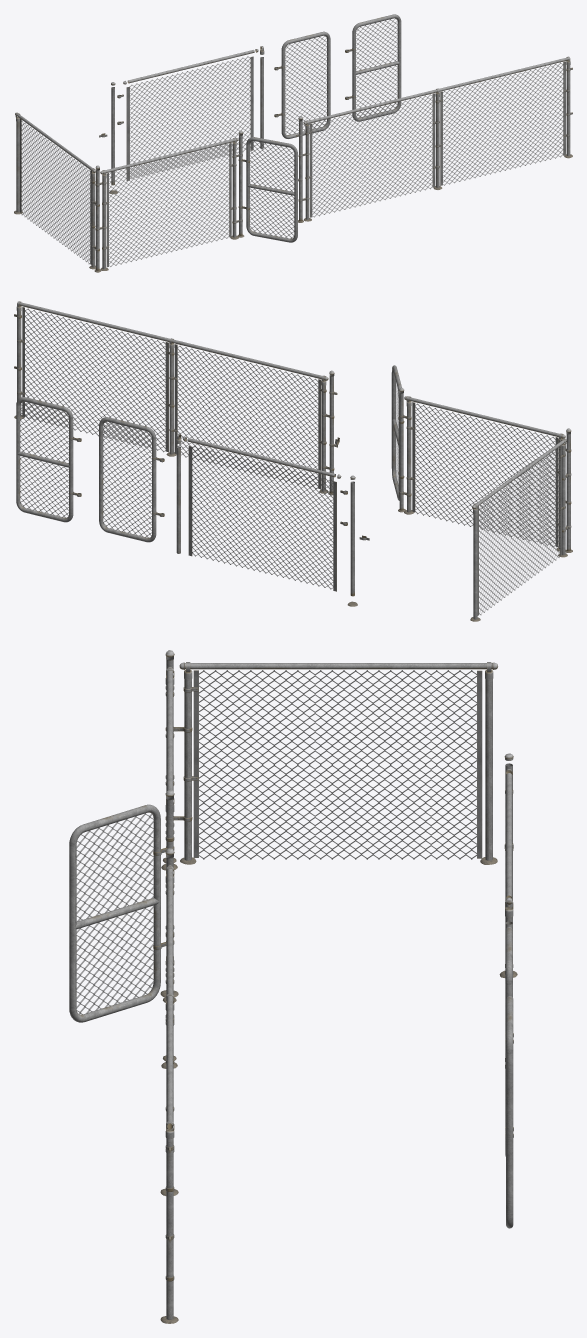
Rendered from modular-chain-link-fence.glb.
3 views of the same model, one above another, from view 1: azimuth 30°, elevation 25°; view 2: azimuth 150°, elevation 25°; view 3: azimuth 270°, elevation 25° (orthographic). The views are drawn at different scales.
Visible parts, largest first — view 1: 702, 716, 856, 211, 1066, 590, 141, 127, 744, 352, 478, 57 (+15 smaller); view 2: 211, 716, 702, 856, 1066, 141, 127, 590, 744, 352, 478, 57 (+15 smaller); view 3: 1066, 590, 954, 141, 968, 492, 1038, 1080, 940, 57.
Boxes of the visible parts, x1,y1,x2,y2 form: 702: [312, 94, 432, 217]; 716: [443, 62, 563, 185]; 856: [109, 144, 229, 266]; 211: [130, 56, 250, 179]; 1066: [20, 120, 90, 264]; 590: [238, 137, 297, 242]; 141: [345, 14, 401, 121]; 127: [274, 31, 330, 138]; 744: [103, 138, 236, 173]; 352: [306, 89, 437, 123]; 478: [439, 57, 568, 91]; 57: [127, 50, 254, 83]; 211: [192, 446, 333, 589]; 716: [24, 308, 166, 452]; 702: [176, 345, 318, 489]; 856: [414, 403, 555, 546]; 1066: [478, 447, 560, 615]; 141: [16, 397, 81, 522]; 127: [99, 417, 164, 542]; 590: [391, 365, 404, 500]; 744: [406, 397, 562, 437]; 352: [171, 339, 324, 379]; 478: [19, 302, 169, 341]; 57: [187, 438, 335, 477]; 1066: [199, 670, 476, 859]; 590: [69, 804, 174, 1022]; 954: [185, 663, 492, 669]; 141: [505, 995, 513, 1228]; 968: [485, 679, 492, 860]; 492: [166, 1138, 173, 1319]; 1038: [184, 679, 191, 860]; 1080: [477, 670, 482, 858]; 940: [193, 670, 198, 857]; 57: [506, 773, 512, 898].
Size of the model in its own units: 9.46 by 2.14 by 3.84.
1 material, 1 textured.
